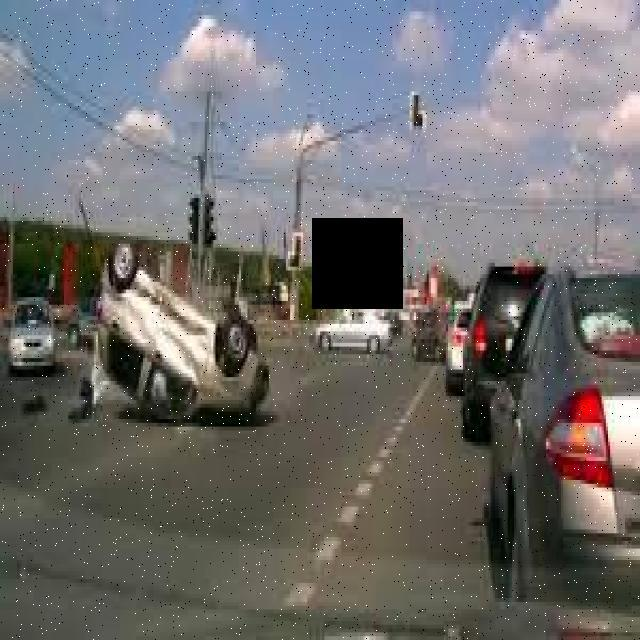severe: (93, 235, 272, 424)
